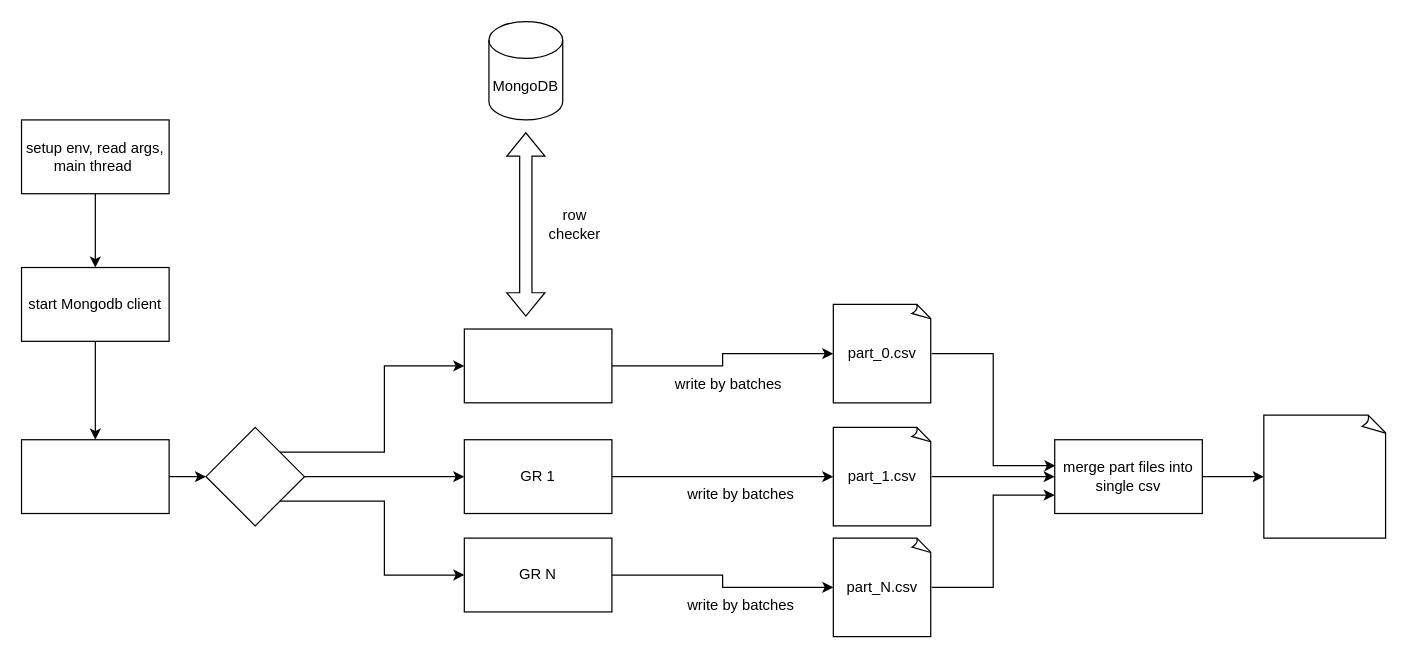
Some shapes in this 1408 by 658 pixel diagram are drawn without their labels. Here are the shapes that lost their labels. From the top down, the centre of each, then its label:
(x=537, y=365): GR 0: - Extract chunk data by batches of 10% chunk's size
(x=94, y=476): get total count based on search criteria
(x=254, y=476): Start N goroutines
(x=1325, y=476): csv
